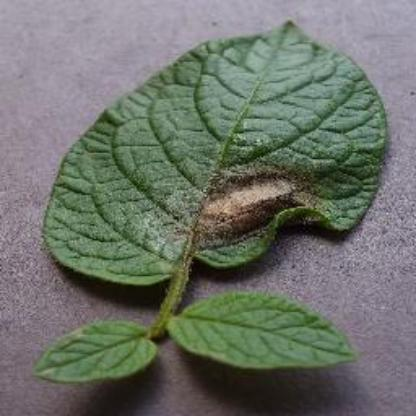Late-Blight: (22, 10, 398, 396)
